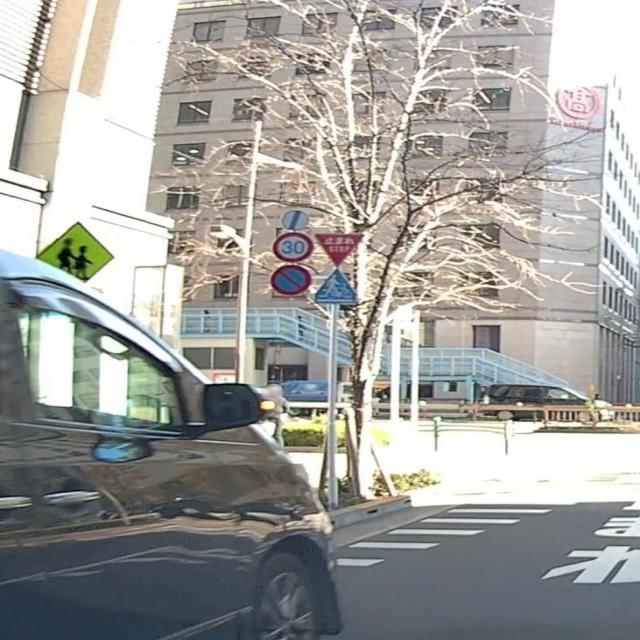sakura: (147, 0, 615, 497)
